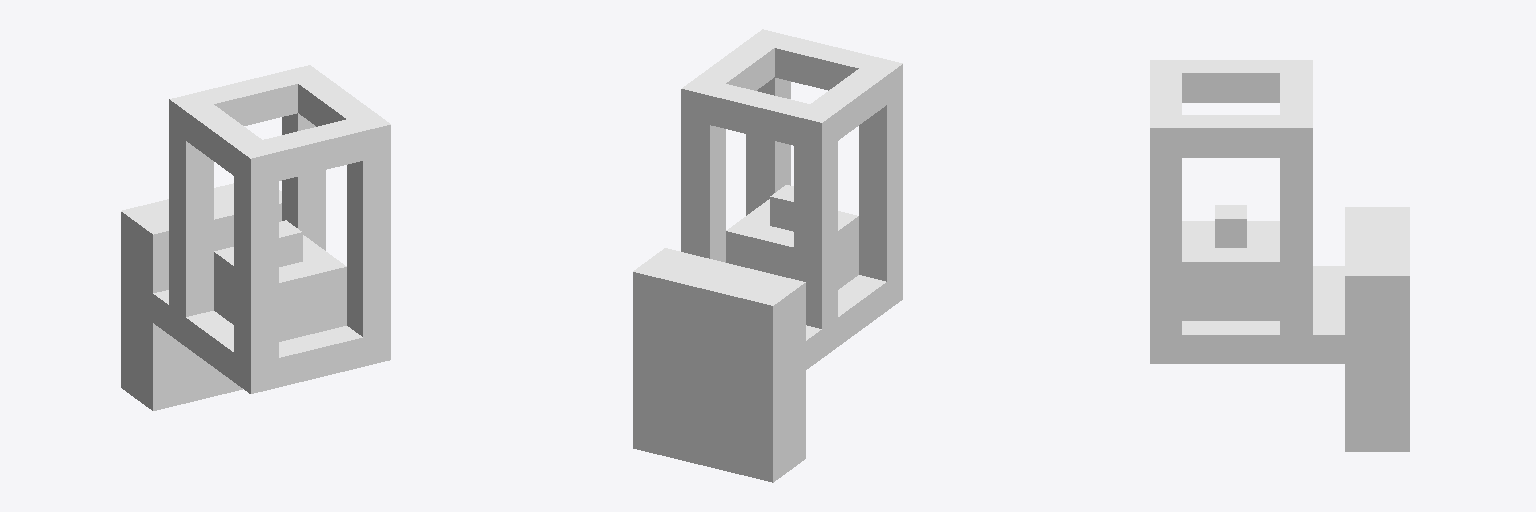
The model's file is Stenka1-17.obj.
3 views of the same model, side by side, from view 1: azimuth 30°, elevation 25°; view 2: azimuth 150°, elevation 25°; view 3: azimuth 270°, elevation 25° (orthographic).
Parts seen in each view (by area): view 1: object 1; view 2: object 1; view 3: object 1.
Part boxes in pixels (left/top/right/bottom): object 1: left=121, top=65, right=390, bottom=410; object 1: left=633, top=29, right=902, bottom=482; object 1: left=1150, top=60, right=1409, bottom=451.
Size of the model in its own units: 0.5 by 1.1 by 0.8.